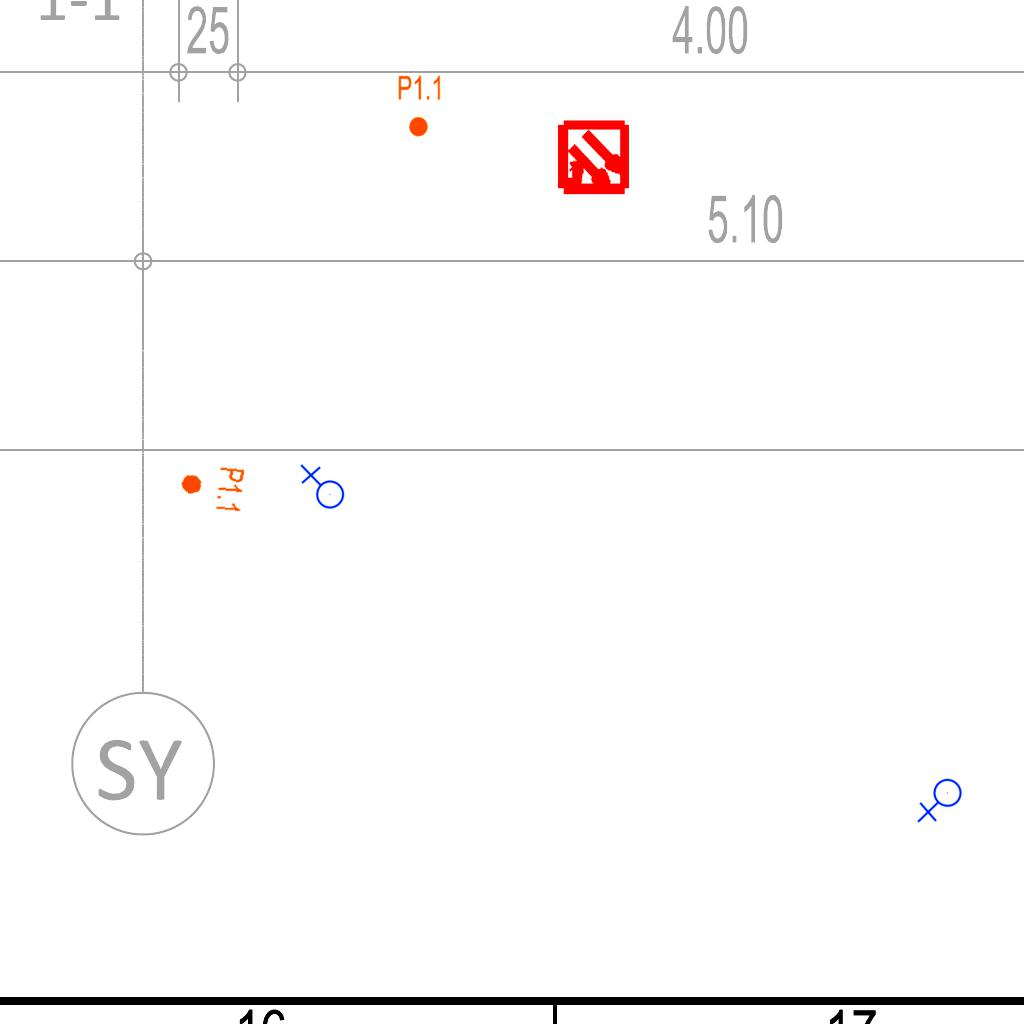Downlight_LED_Einbauleuchten_Flur: (177, 461, 247, 515), (397, 74, 443, 138)
Elektroanschluss_allgemein_230V_Geraeteanschlussdose_230V: (298, 464, 345, 513), (917, 778, 966, 825)
OT_Multisensormelder_(Kombination_RMO_WMD): (537, 103, 650, 216)
